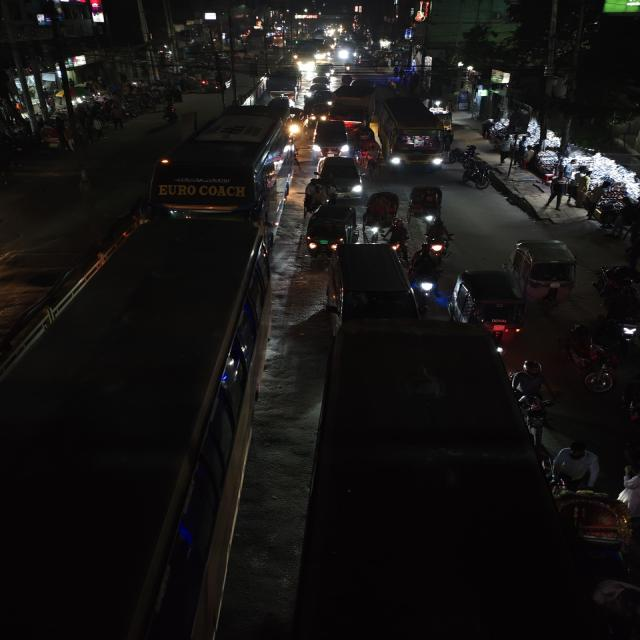bus: (0, 222, 275, 638), (144, 106, 288, 222), (376, 93, 453, 173), (293, 38, 322, 68)
car: (326, 254, 426, 329), (316, 155, 363, 198), (312, 119, 351, 157), (307, 76, 334, 90), (312, 63, 334, 79)
cng: (449, 266, 529, 340), (510, 236, 582, 302), (304, 202, 356, 258), (305, 101, 330, 123)
motorcycle: (558, 323, 618, 397), (598, 282, 640, 352), (412, 250, 446, 299), (460, 145, 493, 191), (620, 361, 640, 434), (423, 218, 454, 259)
pedestrian: (512, 358, 554, 430), (555, 438, 601, 492), (546, 169, 571, 211)
rickshaw: (554, 491, 640, 559), (362, 188, 400, 240), (408, 183, 446, 226), (36, 124, 68, 152)
truck: (326, 83, 376, 127), (264, 66, 302, 102)
